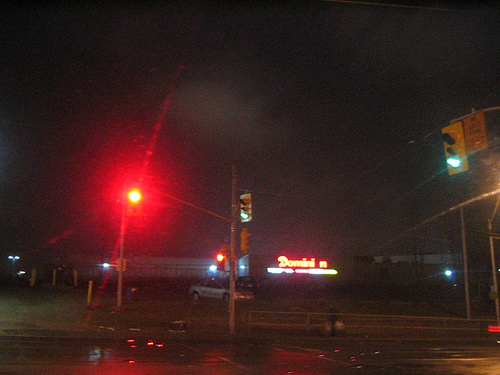car: (188, 276, 258, 305)
